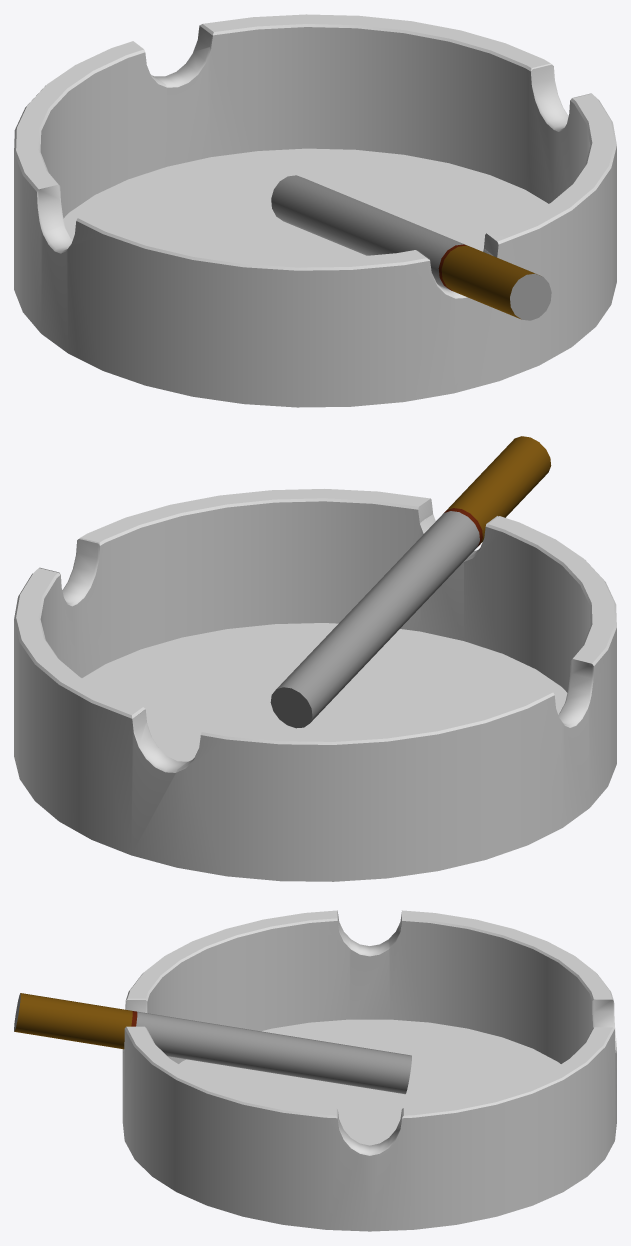
File: Ashtray.FBX
The picture shows the model from 3 angles, top to bottom: view 1: azimuth 30°, elevation 25°; view 2: azimuth 150°, elevation 25°; view 3: azimuth 270°, elevation 25°; orthographic projection. The views are drawn at different scales.
Visible parts, largest first — view 1: Cylinder001, Cylinder002; view 2: Cylinder001, Cylinder002; view 3: Cylinder001, Cylinder002.
Boxes of the visible parts, x1,y1,x2,y2 form: Cylinder001: (14, 14, 616, 407); Cylinder002: (271, 175, 551, 320); Cylinder001: (14, 489, 616, 881); Cylinder002: (270, 436, 551, 728); Cylinder001: (122, 910, 616, 1231); Cylinder002: (14, 993, 411, 1094).
Size of the model in its own units: 200 by 59.05 by 244.
